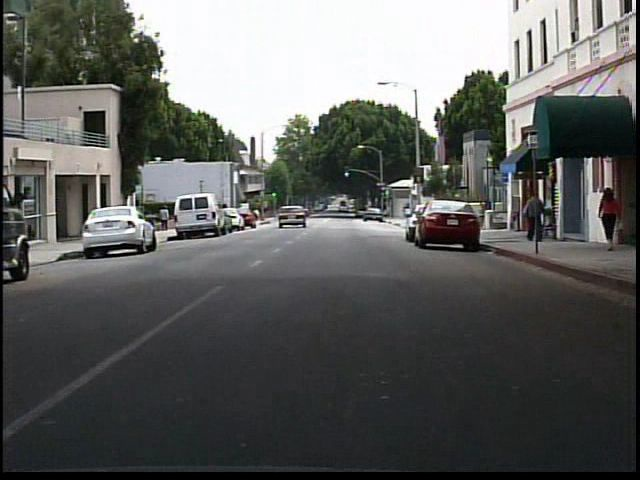person: (594, 186, 623, 251), (521, 190, 549, 243), (158, 202, 176, 234)
